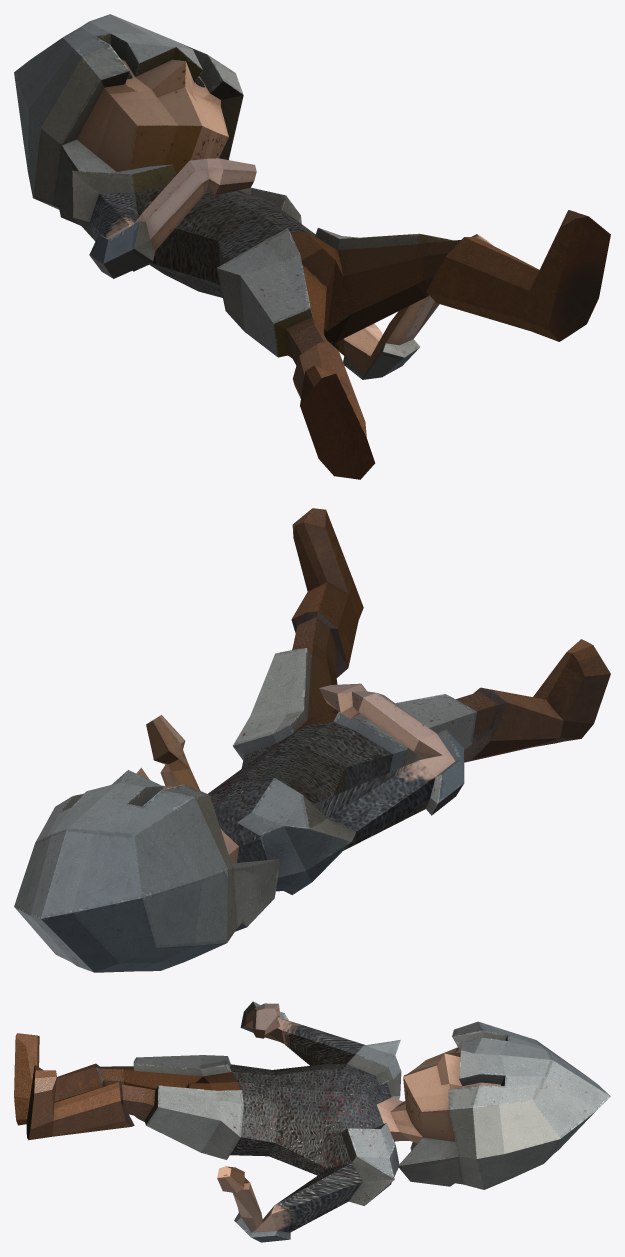
File: Walk_Soldier_12.obj
3 views of the same model, one above another, from view 1: azimuth 30°, elevation 25°; view 2: azimuth 150°, elevation 25°; view 3: azimuth 270°, elevation 25° (orthographic). The views are drawn at different scales.
Parts seen in each view (by area): view 1: Soldado_LowPolySTD; view 2: Soldado_LowPolySTD; view 3: Soldado_LowPolySTD.
Boxes of the visible parts, x1,y1,x2,y2 form: Soldado_LowPolySTD: [14, 14, 610, 479]; Soldado_LowPolySTD: [14, 508, 610, 972]; Soldado_LowPolySTD: [14, 1001, 610, 1242].
Bounding box in the file's own units: 0.7795 × 0.5592 × 1.6.
